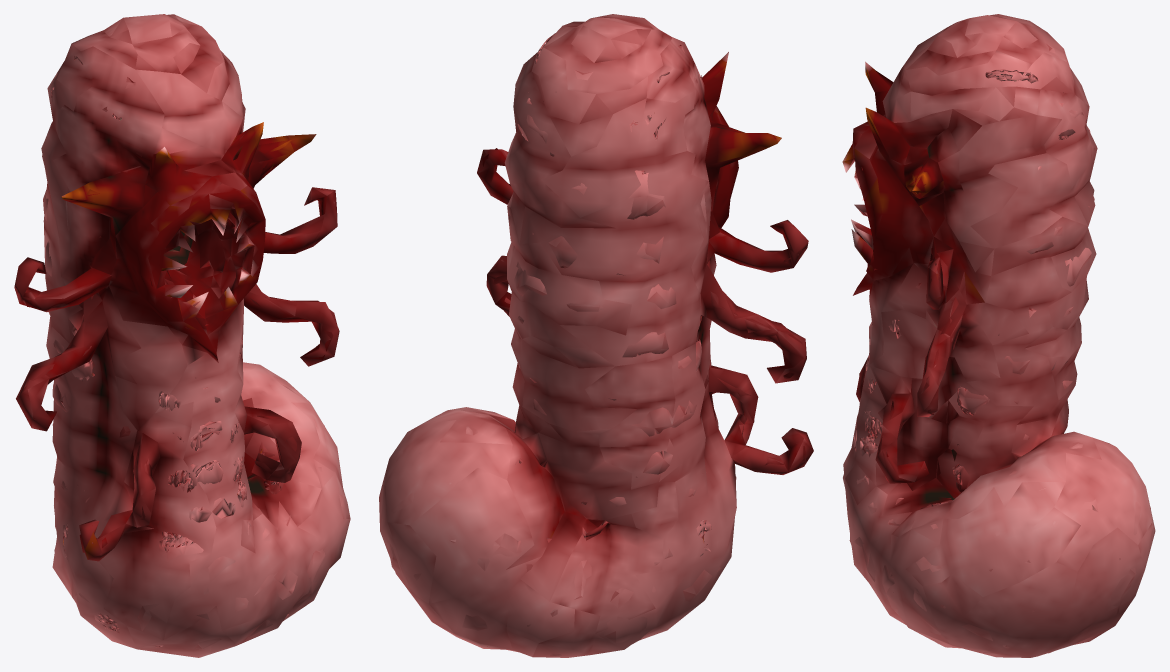
The model's file is SARGE1.obj.
The picture shows the model from 3 angles, left to right: view 1: azimuth 30°, elevation 25°; view 2: azimuth 150°, elevation 25°; view 3: azimuth 270°, elevation 25°; orthographic projection. The views are drawn at different scales.
Size of the model in its own units: 0.6164 by 1 by 0.4878.
Materials: 1 (1 with a texture image).
